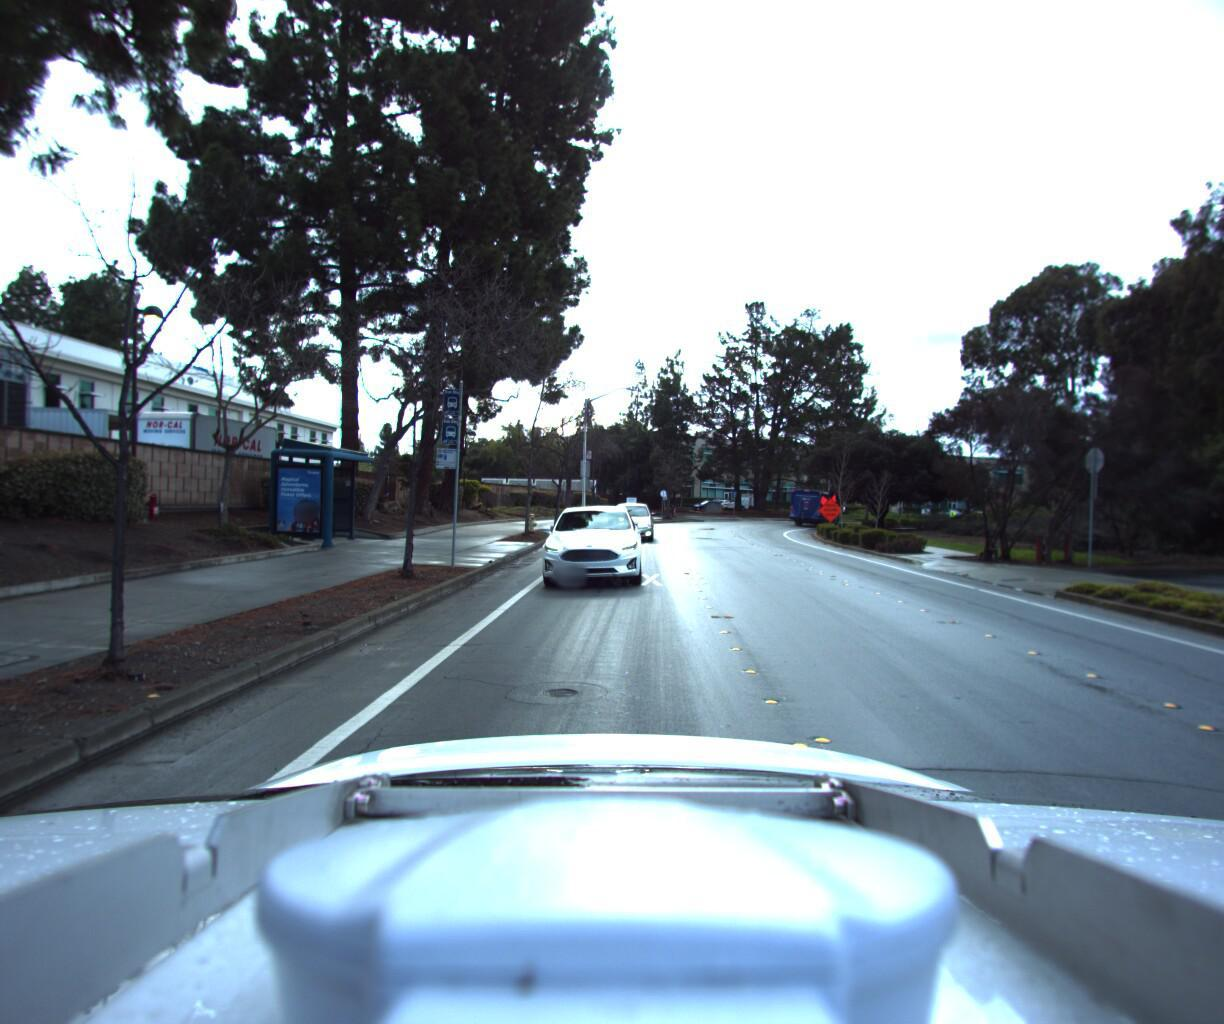bus: (788, 488, 850, 526)
car: (535, 502, 649, 592), (604, 501, 659, 544)
truck: (103, 401, 286, 504)
